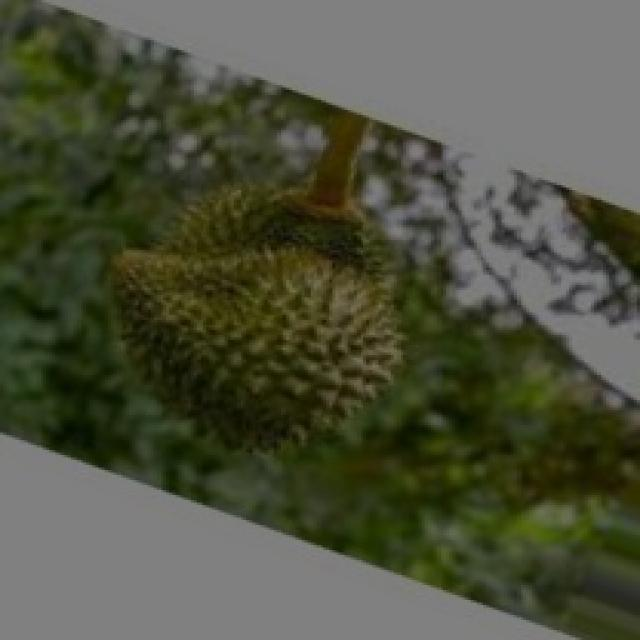fruit: (37, 135, 449, 510)
